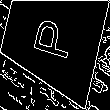P_W: (27, 16, 77, 65)
